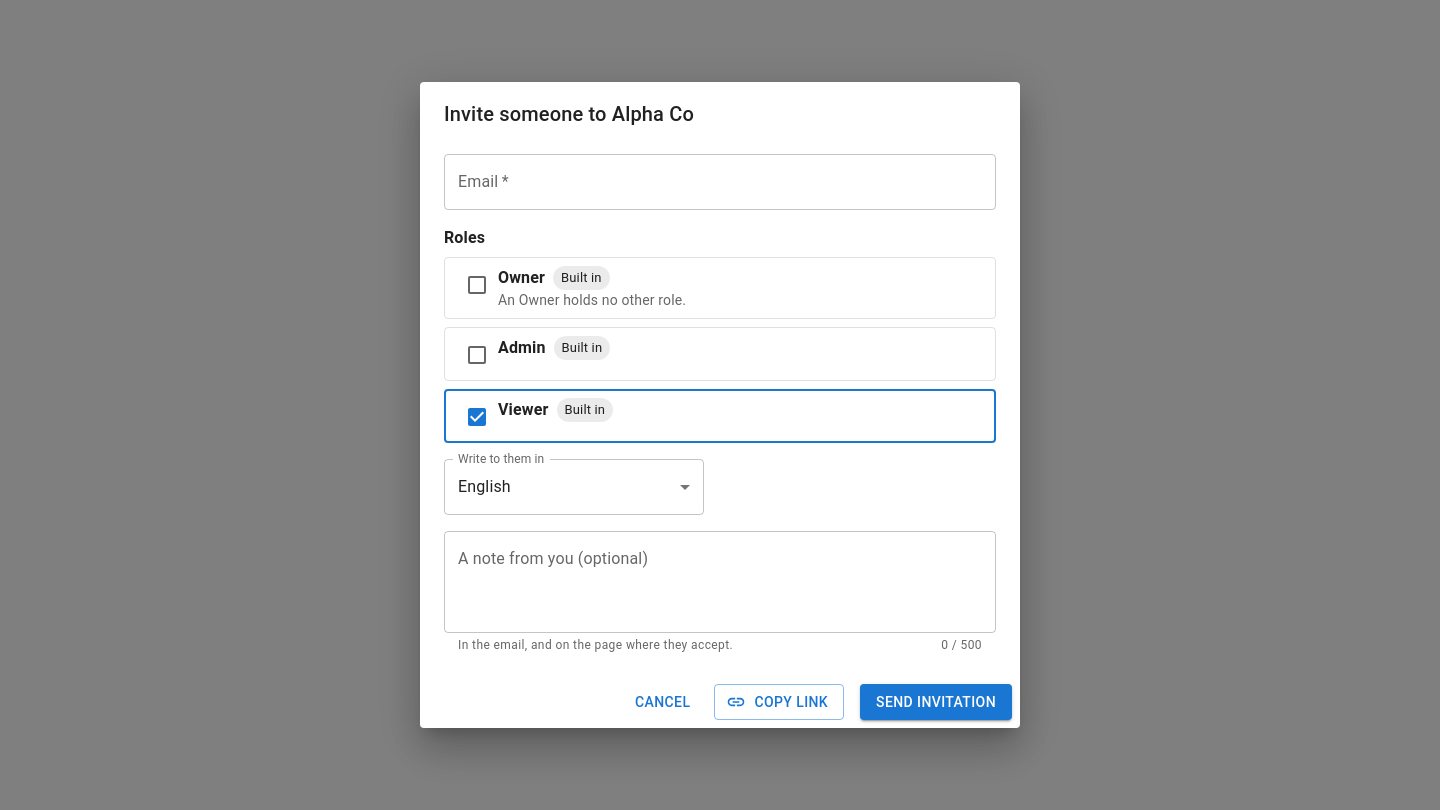
Test: InviteDialog (ADR-077) › never says the link was copied when the clipboard refused it
The image size is (1440, 810).
Type "sam@example.com" into the field labelled "Email" at (720, 182), box top-left (444, 154), bottom-right (996, 210)
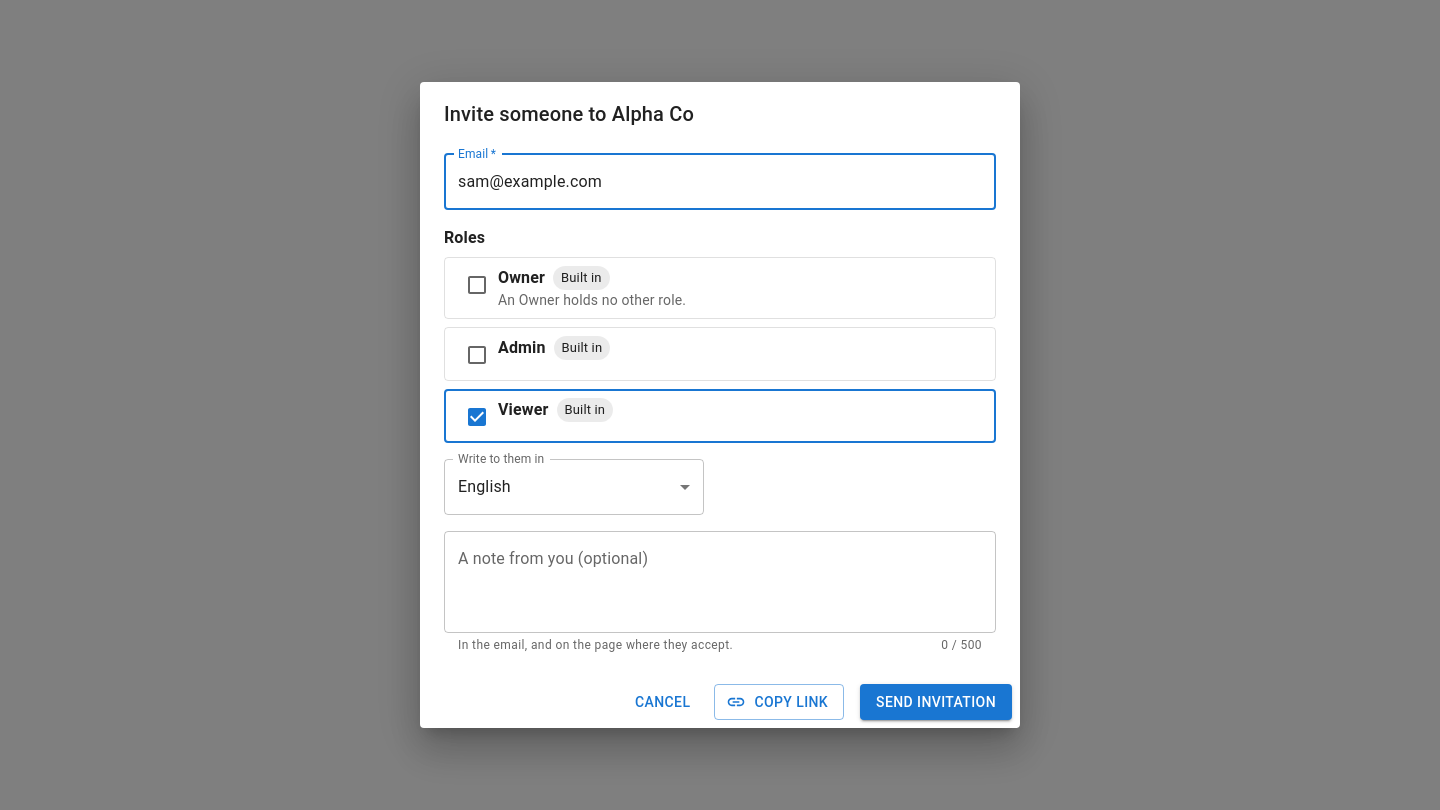
Click the button "Copy link" at (779, 702), box top-left (714, 684), bottom-right (844, 720)
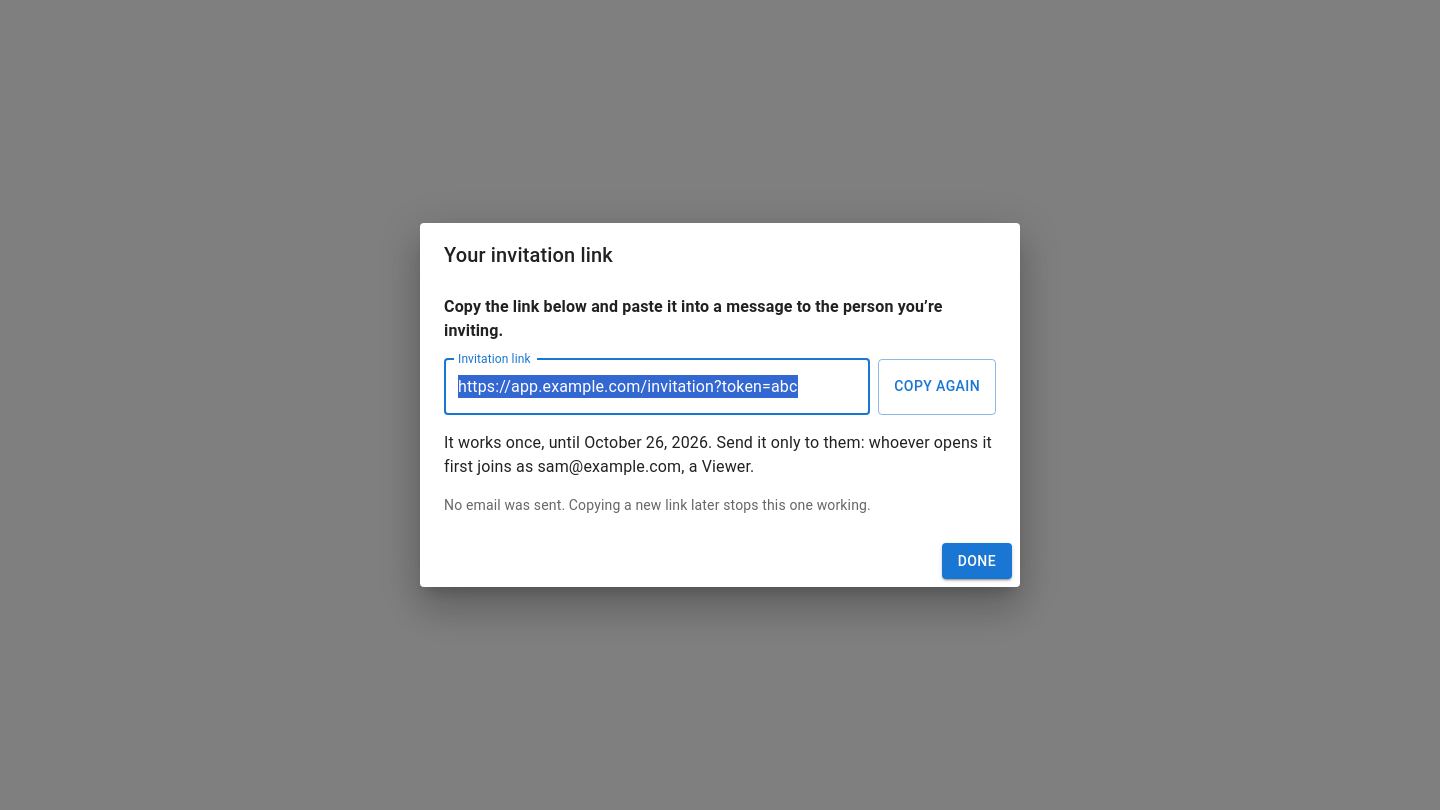
Result: the dialog "Your invitation link" is shown at top-left (420, 223), bottom-right (1020, 587)
Result: the text "Copy the link below and paste it into a message to the person you’re inviting." is shown at top-left (444, 295), bottom-right (996, 343)
Result: the field labelled "Invitation link" holds "https://app.example.com/invitation?token=abc" at top-left (444, 359), bottom-right (870, 415)
